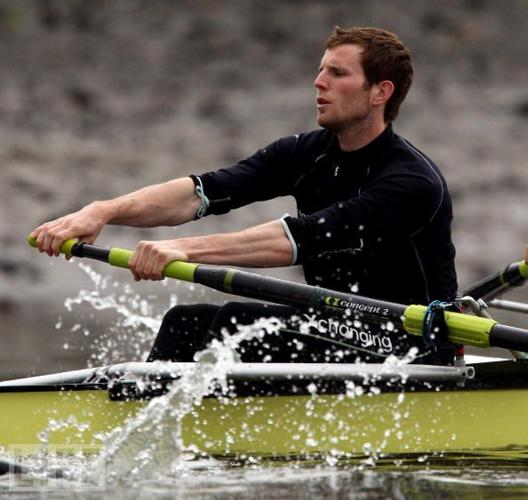person: (29, 21, 458, 365)
